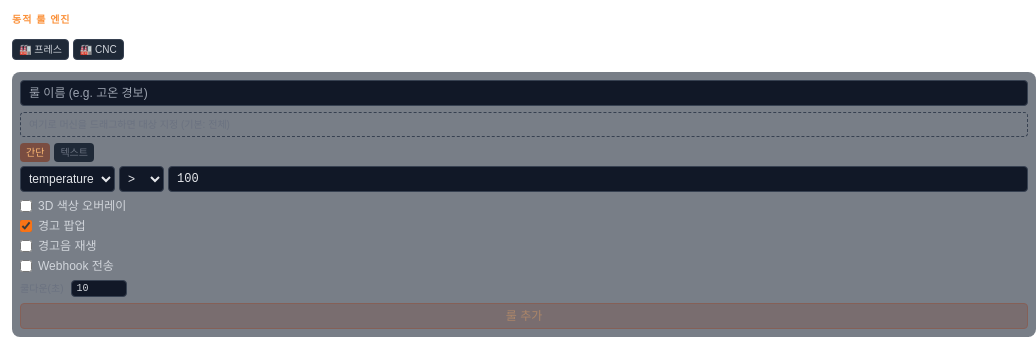
Test: RuleEditorPanel — B: simple condition builder mode › switches to text mode and shows the assembled string as an editable free-text input
Click the button "텍스트": point(74, 152) [54, 143, 94, 162]
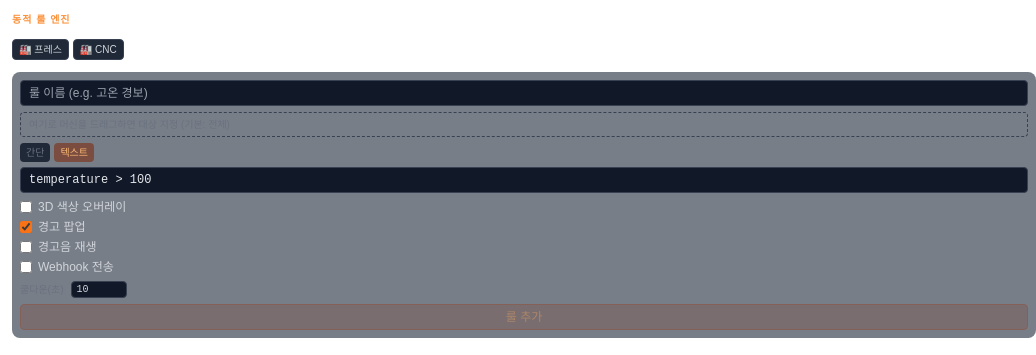
expect the 1st field showing "temperature > 100" is shown: met, box [20, 167, 1028, 193]
